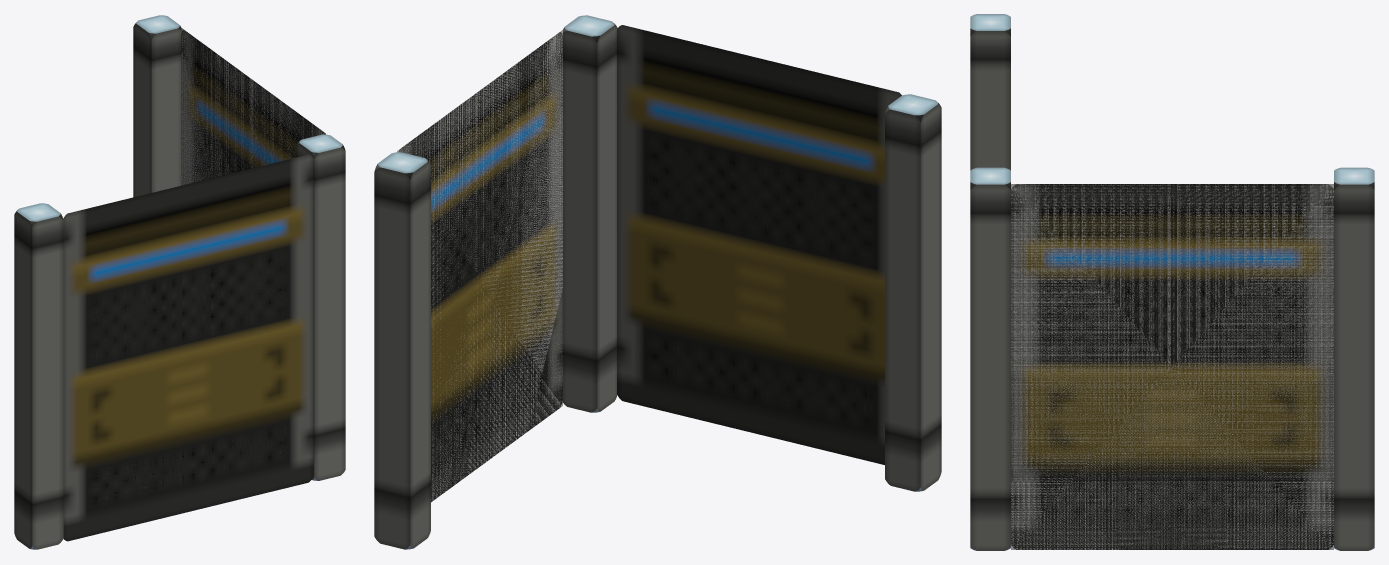
The picture shows the model from 3 angles, left to right: view 1: azimuth 30°, elevation 25°; view 2: azimuth 150°, elevation 25°; view 3: azimuth 270°, elevation 25°; orthographic projection. The views are drawn at different scales.
Visible parts, largest first — view 1: S, SW, E, SE, NE; view 2: S, E, SW, NE, SE; view 3: E, NE, SE, SW.
Boxes of the visible parts, box(x1,y1,x2,y2) form: S: box(63, 154, 313, 541); SW: box(14, 203, 63, 549); E: box(181, 28, 325, 185); SE: box(296, 134, 345, 480); NE: box(133, 15, 181, 197); S: box(617, 25, 901, 464); E: box(397, 30, 562, 502); SW: box(885, 94, 941, 491); NE: box(374, 152, 430, 549); SE: box(563, 15, 617, 412); E: box(1011, 184, 1333, 549); NE: box(1334, 167, 1374, 550); SE: box(970, 167, 1010, 550); SW: box(970, 14, 1010, 170).
Size of the model in its own units: 2 by 2 by 2.
Materials: 2 (1 with a texture image).
